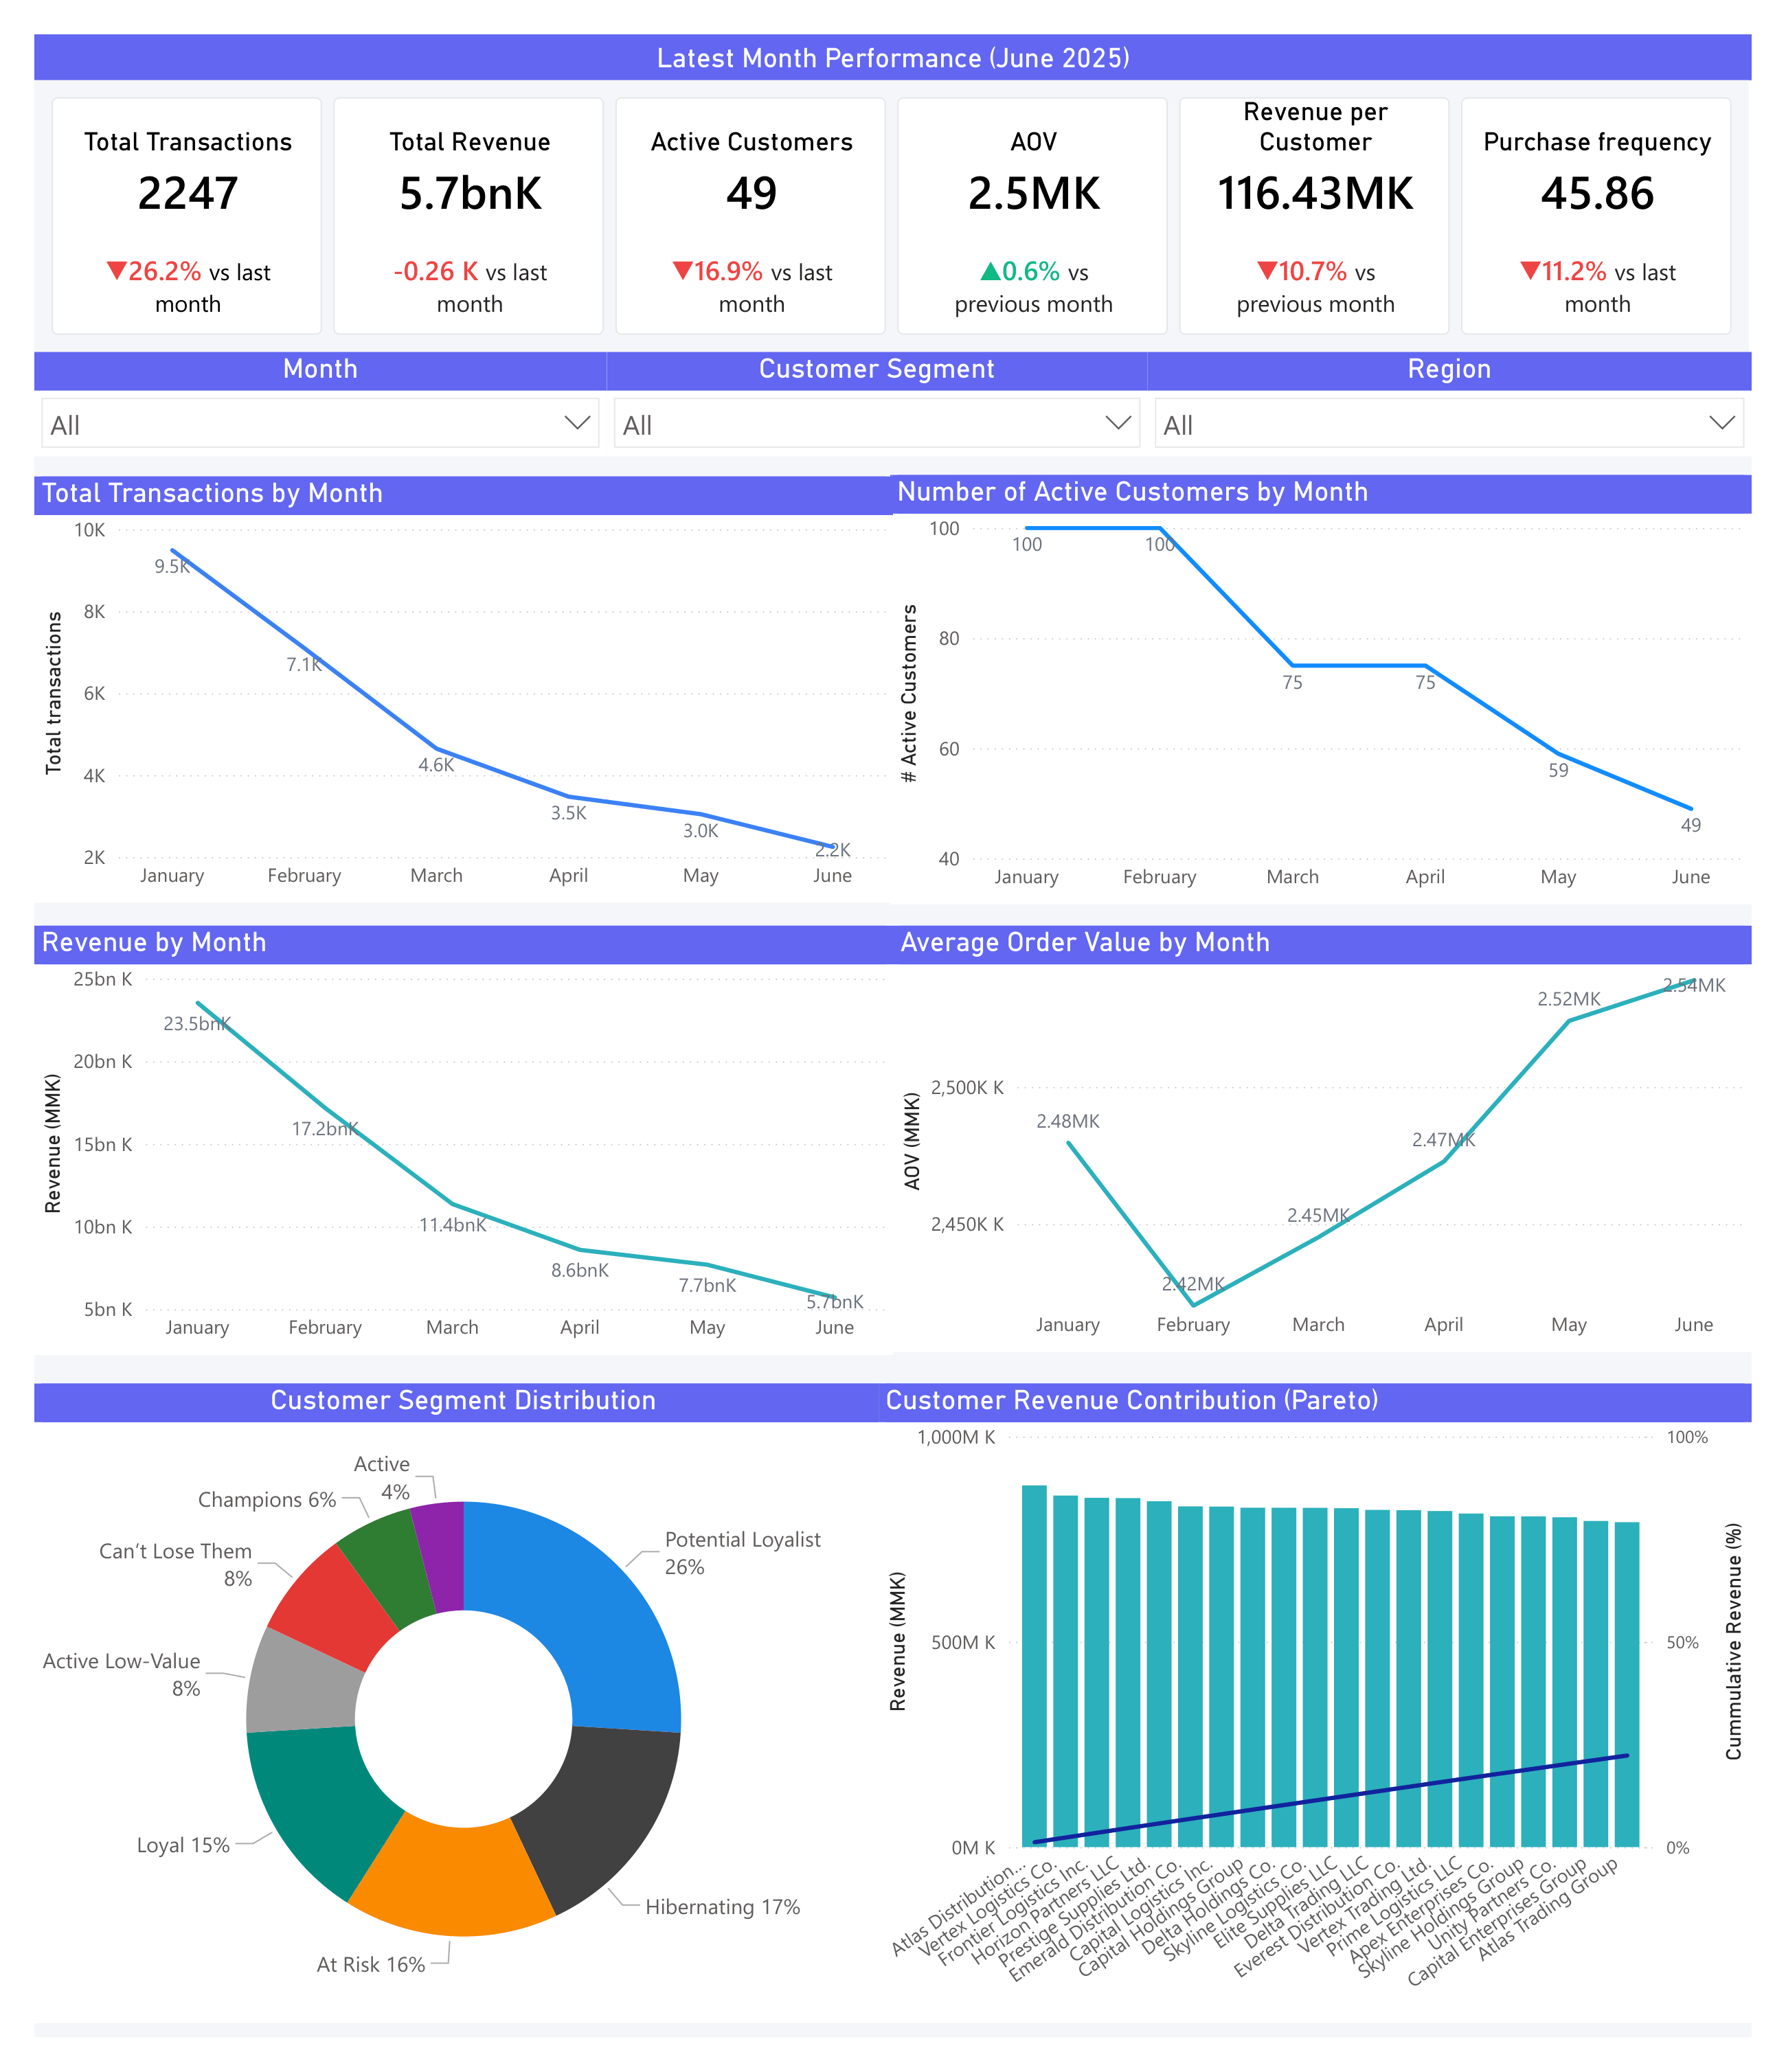

This screenshot's page, from the dashboard's own definition file:
{"tool":"powerbi","page":{"name":"Executive Overview","canvas":[1200,1400],"ordinal":0},"visuals":[{"type":"cardVisual","title":"Latest Month Performance (June 2025)","fields":{"Data":["fact_transactions.Total transactions","fact_transactions.Total revenue","fact_transactions.Active customers","fact_transactions.AOV","fact_transactions.Revenue per Customer","fact_transactions.Purchase frequency"]},"box":[0,0,1200,221.7],"z":0},{"type":"lineChart","title":"Revenue by Month","fields":{"Y":["fact_transactions.Total revenue"],"Category":["dim_date.MonthName"]},"box":[0,622.5,600,300],"z":1000},{"type":"lineChart","title":"Number of Active Customers by Month","fields":{"Category":["dim_date.MonthName"],"Y":["fact_transactions.Active customers"]},"box":[598.3,308.3,601.7,300],"z":2000},{"type":"slicer","title":"Customer Segment","fields":{"Values":["dim_customers.segment_label"]},"box":[400,221.7,378.3,73.3],"z":3000},{"type":"slicer","title":"Month","fields":{"Values":["dim_date.MonthName"]},"box":[0,221.7,400,73.3],"z":4000},{"type":"slicer","title":"Region","fields":{"Values":["dim_customers.region"]},"box":[778.3,221.7,421.7,73.3],"z":5000},{"type":"lineChart","title":"Total Transactions by Month","fields":{"Category":["dim_date.MonthName"],"Y":["fact_transactions.Total transactions"]},"box":[0,308.7,600,298.3],"z":6000},{"type":"lineChart","title":"Average Order Value by Month","fields":{"Category":["dim_date.MonthName"],"Y":["fact_transactions.AOV"]},"box":[600,622.5,600,298.3],"z":7000},{"type":"donutChart","title":"Customer Segment Distribution","fields":{"Y":["dim_customers.Total Customers"],"Category":["dim_customers.segment_label"]},"box":[0,943.3,600,446.7],"z":8000},{"type":"lineClusteredColumnComboChart","title":"Customer Revenue Contribution (Pareto)","fields":{"Category":["dim_customers.company_name"],"Y":["fact_transactions.Total revenue"],"Y2":["dim_customers.Cumulative Revenue %"]},"box":[590,943.3,610,446.7],"z":9000}]}

Visuals, with their boxes on the page's 1200x1400 design canvas (x1, y1, x2, y2). These are canvas units, not pixel positions in the 1786x2072 screenshot, which may show the page scaled, cropped or inside an application window:
"Latest Month Performance (June 2025)" cardVisual: 0:0:1200:222
"Revenue by Month" lineChart: 0:622:600:922
"Number of Active Customers by Month" lineChart: 598:308:1200:608
"Customer Segment" slicer: 400:222:778:295
"Month" slicer: 0:222:400:295
"Region" slicer: 778:222:1200:295
"Total Transactions by Month" lineChart: 0:309:600:607
"Average Order Value by Month" lineChart: 600:622:1200:921
"Customer Segment Distribution" donutChart: 0:943:600:1390
"Customer Revenue Contribution (Pareto)" lineClusteredColumnComboChart: 590:943:1200:1390
